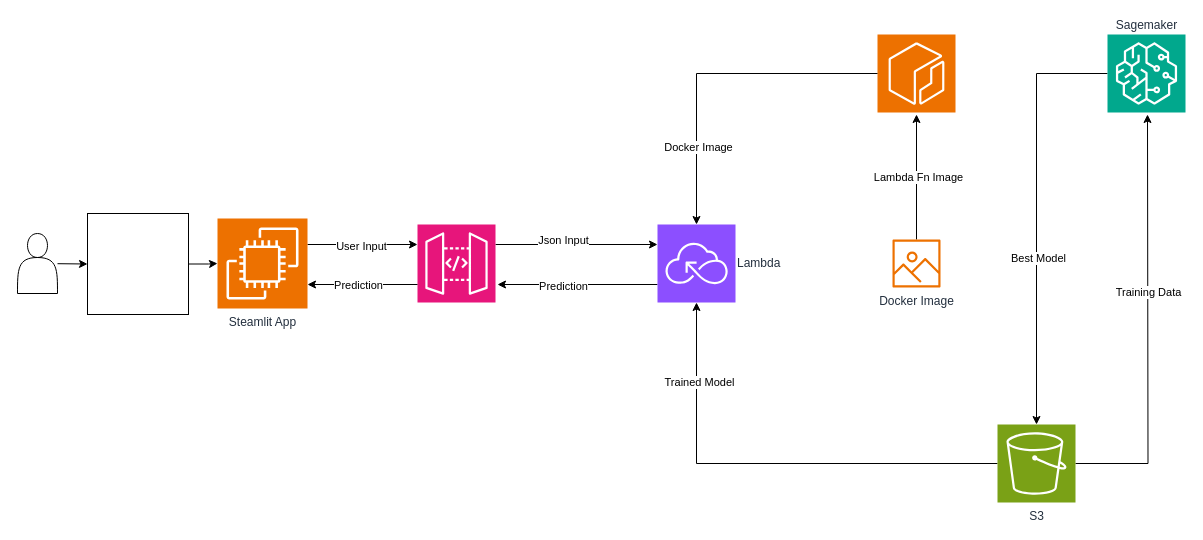
The diagram is 1203 pixels wide and 540 high, and some of its shapes have lost their labels. The shapes that lost their labels are listed below. From the top down, each one's box as (x1, y1, x2, y2) in pixels, then its label:
(876, 34, 956, 112): ECR
(86, 212, 188, 314): UI / Web Page
(416, 224, 496, 302): Api Gateway
